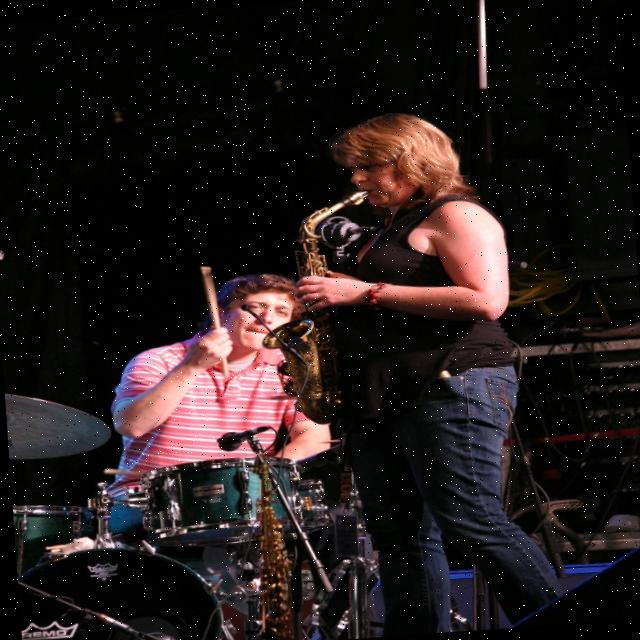drums: (4, 361, 367, 640)
saxophone: (249, 184, 396, 428)
